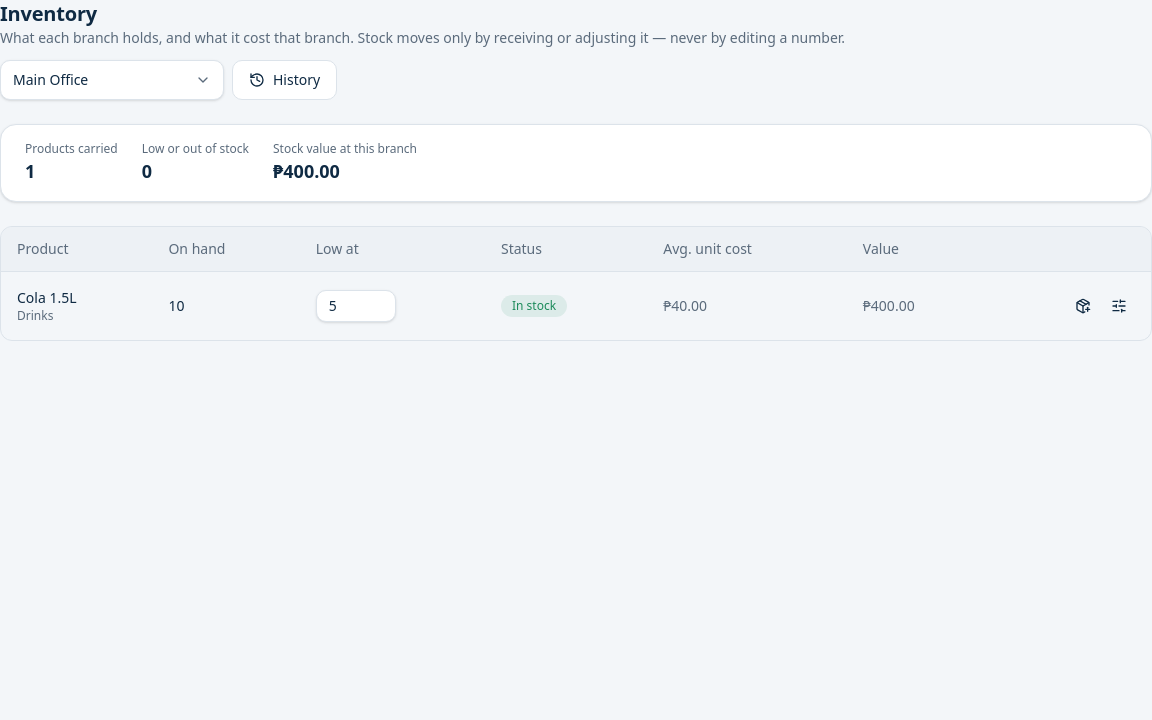
Test: receiving a delivery › previews the new quantity and the new branch average
Click the button named "Receive Cola 1.5L". click: (1083, 306)
box: [1067,290,1099,322]
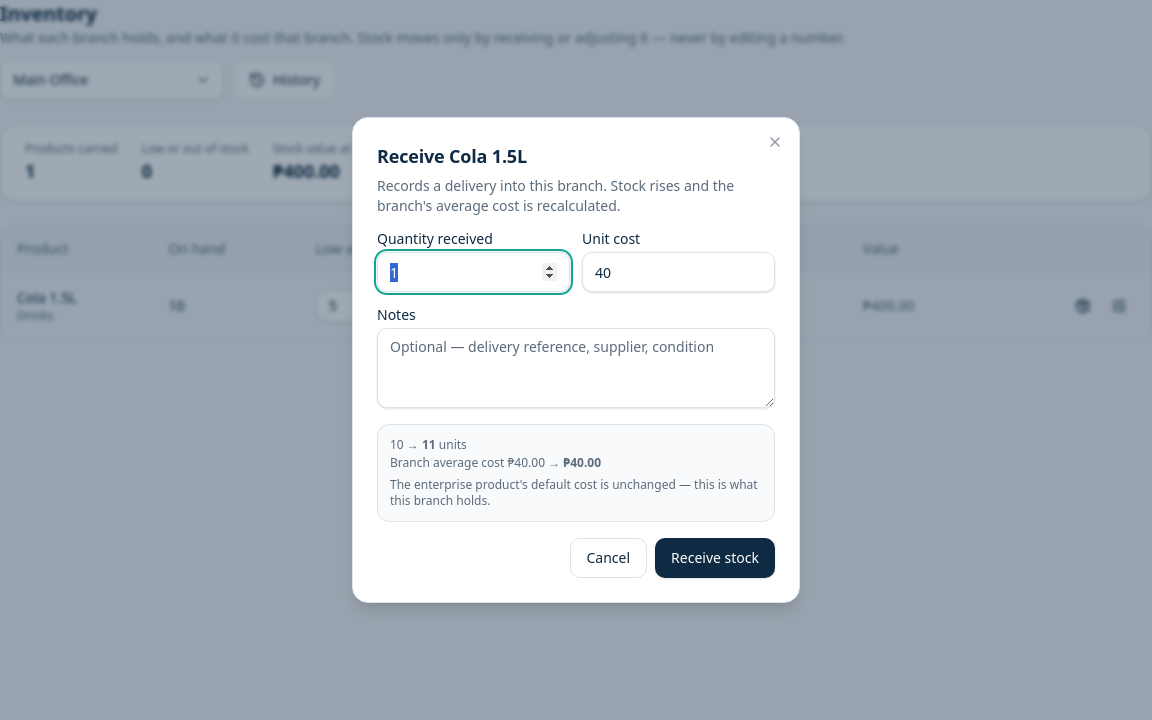
Replace the text in the number field labelled "Quantity received" with "10". click: (474, 272)
box: [377,252,570,292]
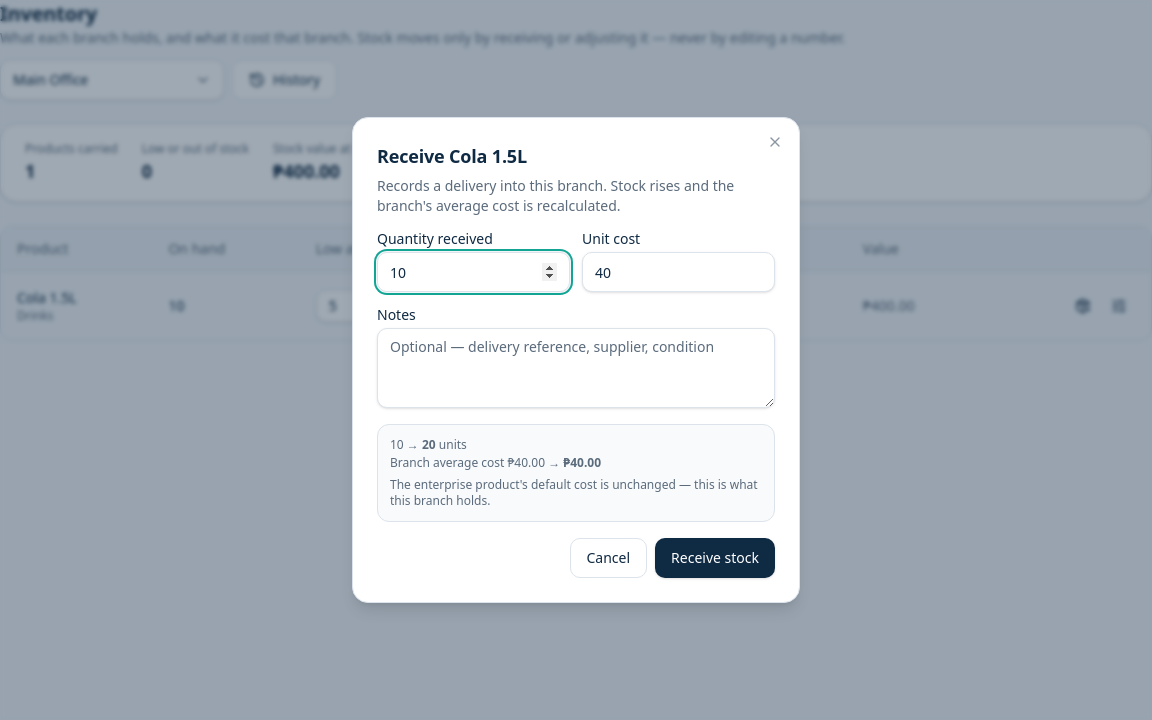
Replace the text in the number field labelled "Unit cost" with "50". click: (678, 272)
box: [582,252,775,292]
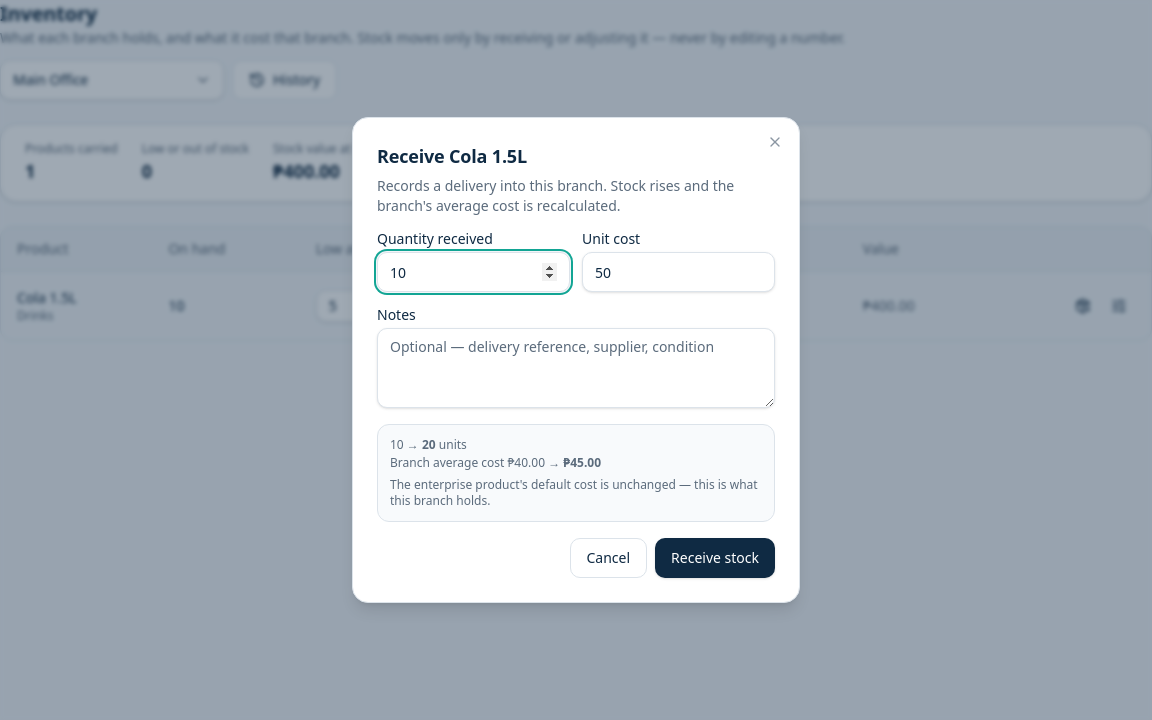
Check: the text "20" is shown, box [422,436,436,453]
Check: the text "₱45.00" is shown, box [563,454,601,471]
